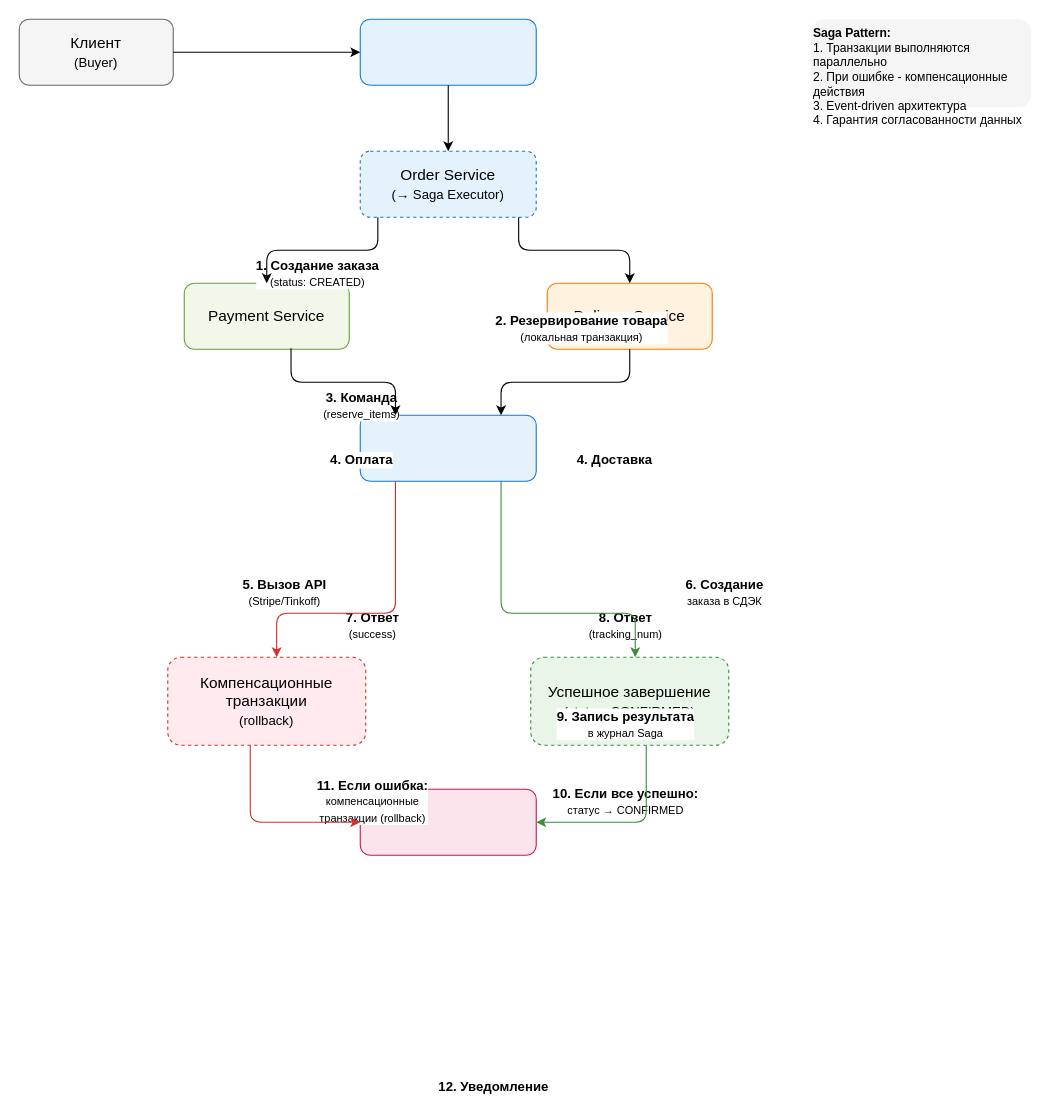
This 1051x1113 diagram has some shape labels left out. Each missing label, with the centre of its shape:
"Notification Service" goes at point (447, 821).
"Order Service (Orchestrator)" goes at point (447, 51).
"Order Service (update status)" goes at point (447, 447).
